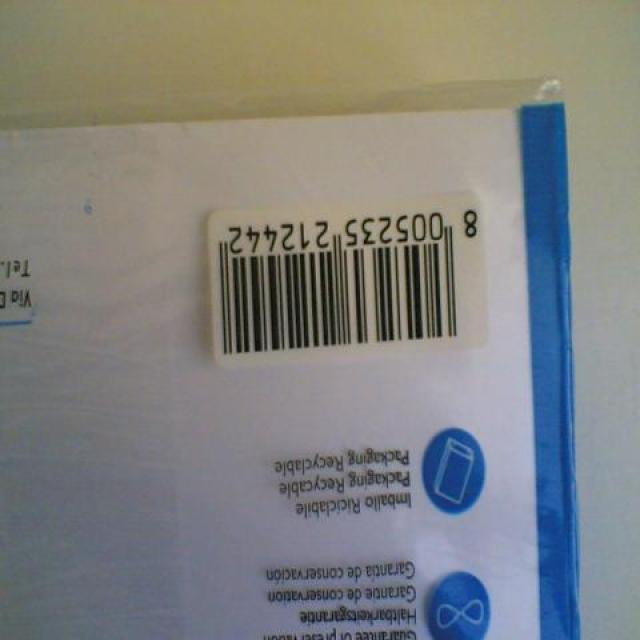Barcode: (206, 188, 494, 375)
